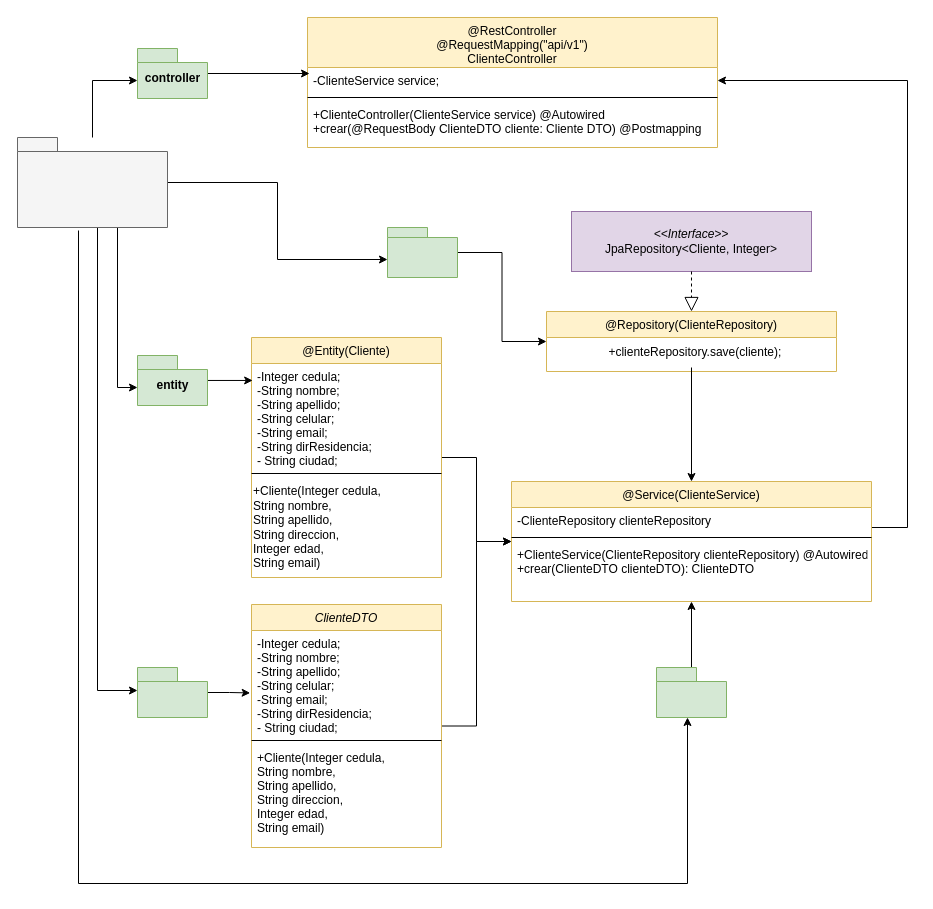
Some shapes in this 933 by 909 pixel diagram are drawn without their labels. The centre of each missing label's shape, as x and y in pixels:
"dto" goes at point (172, 692).
"repository" goes at point (422, 252).
"service" goes at point (691, 692).
"workshopreservas" goes at point (92, 182).
